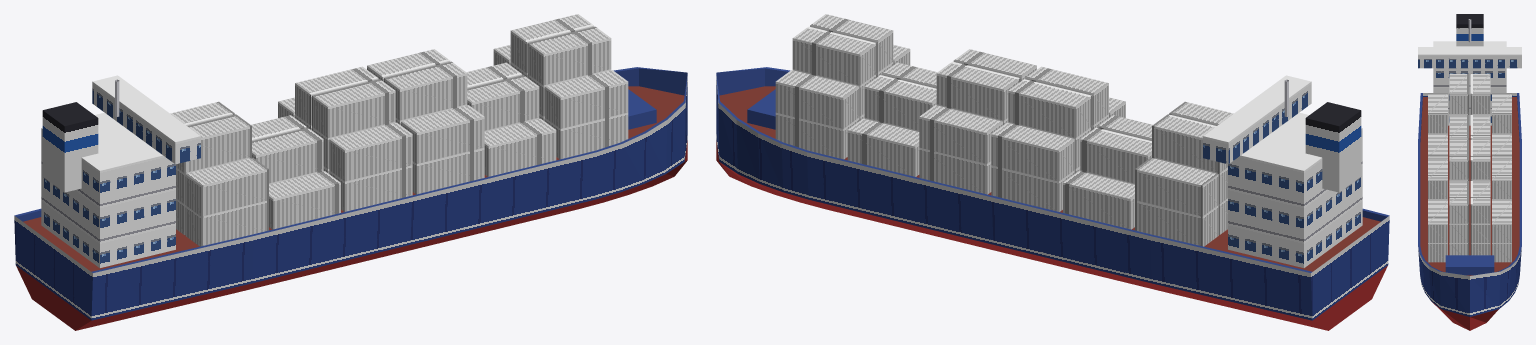
Rendered from cargo_ship.obj.
The picture shows the model from 3 angles, left to right: view 1: azimuth 30°, elevation 25°; view 2: azimuth 150°, elevation 25°; view 3: azimuth 270°, elevation 25°; orthographic projection. The views are drawn at different scales.
Bounding box in the file's own units: 300 × 99 × 68.
